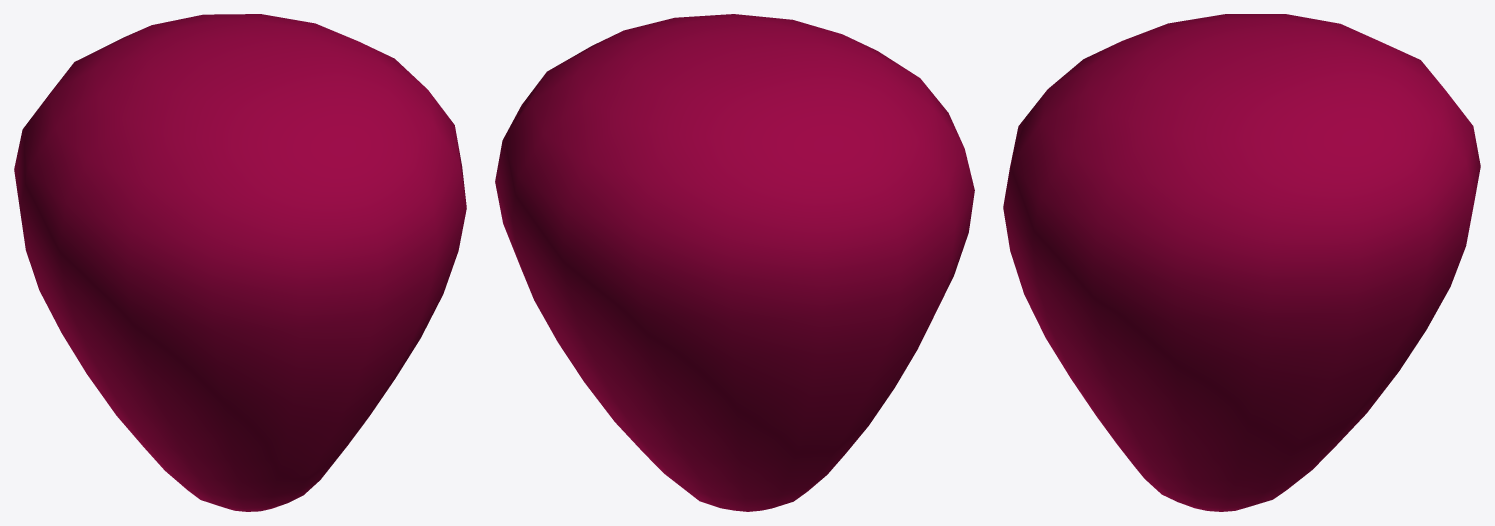
Rendered from strawberry.fbx.
The picture shows the model from 3 angles, left to right: view 1: azimuth 30°, elevation 25°; view 2: azimuth 150°, elevation 25°; view 3: azimuth 270°, elevation 25°; orthographic projection. The views are drawn at different scales.
Parts seen in each view (by area): view 1: cupcake_contorno_03.002; view 2: cupcake_contorno_03.002; view 3: cupcake_contorno_03.002.
Boxes of the visible parts, left/top/right/bottom form: cupcake_contorno_03.002: left=14, top=14, right=466, bottom=511; cupcake_contorno_03.002: left=495, top=14, right=974, bottom=511; cupcake_contorno_03.002: left=1003, top=14, right=1480, bottom=511.
Size of the model in its own units: 70.74 by 75.44 by 71.87.
